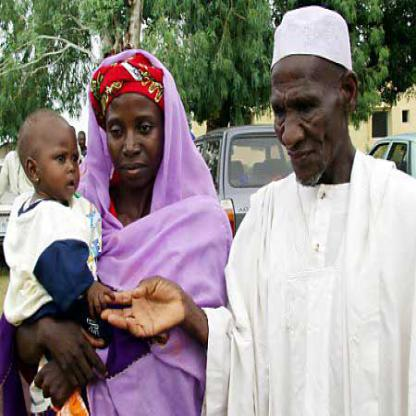face: (270, 26, 347, 190), (107, 63, 169, 191), (37, 116, 87, 202)
